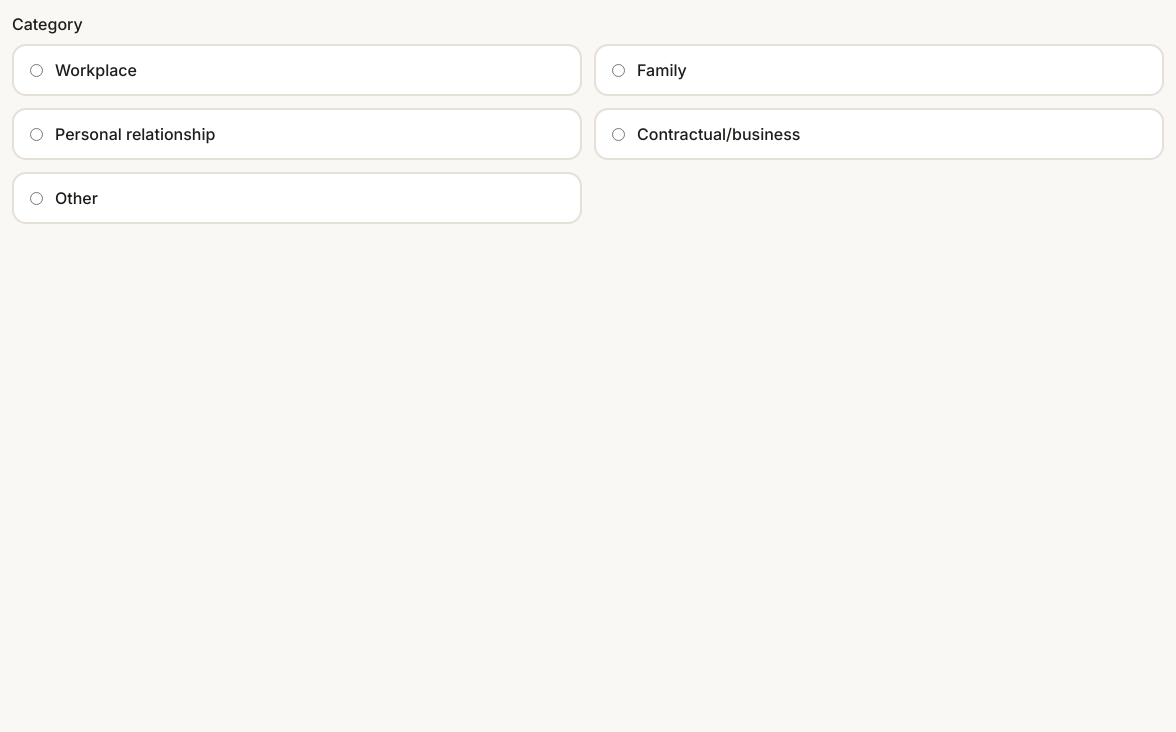
Test: AC2: Main Topic soft 140-char counter › shows a character counter after typing
This screenshot has width=1176, height=732.
Click the radio button labelled "Workplace": point(36, 70) [30,64,43,76]
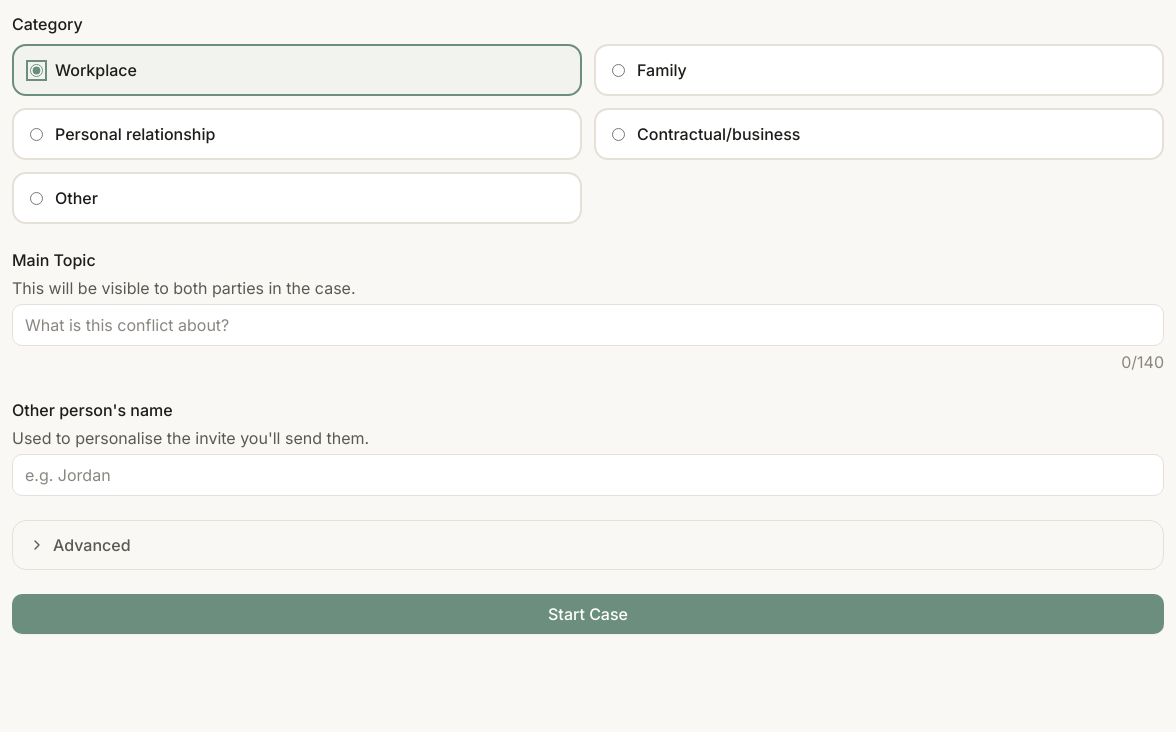
In the field labelled "Main Topic": point(588, 325) [12,304,1164,346], type "Hello"
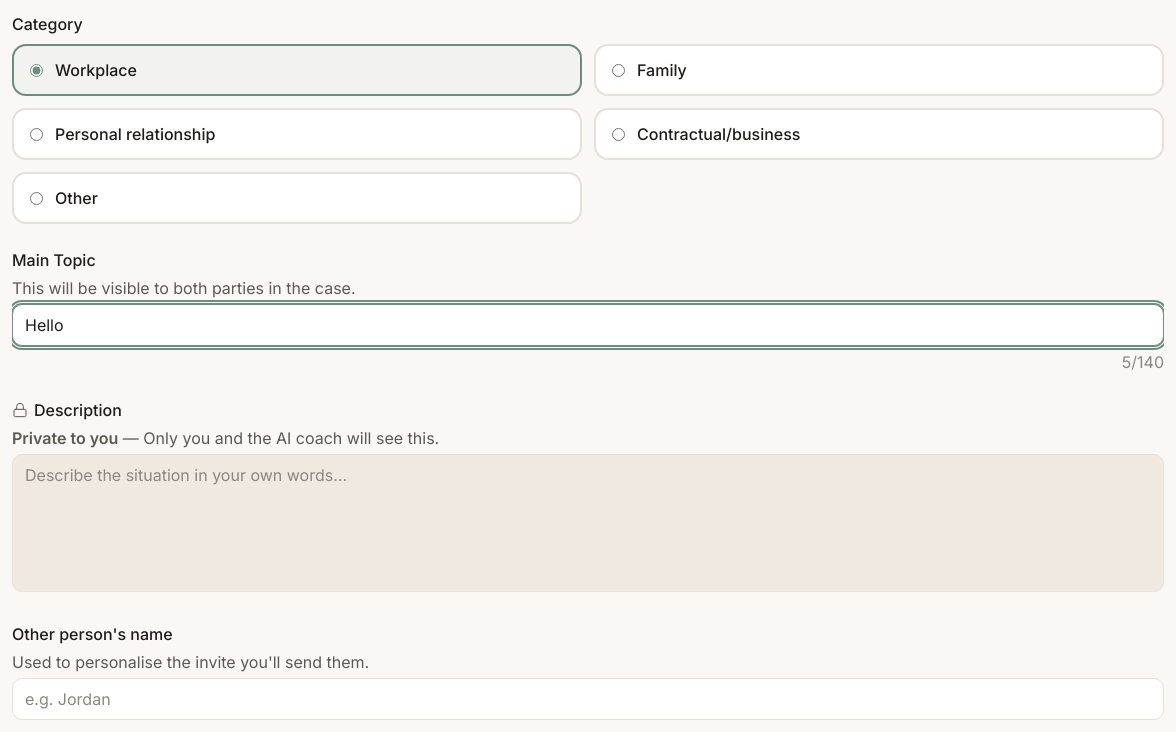
Result: the text "5/140" is shown at [1122,350,1164,374]
